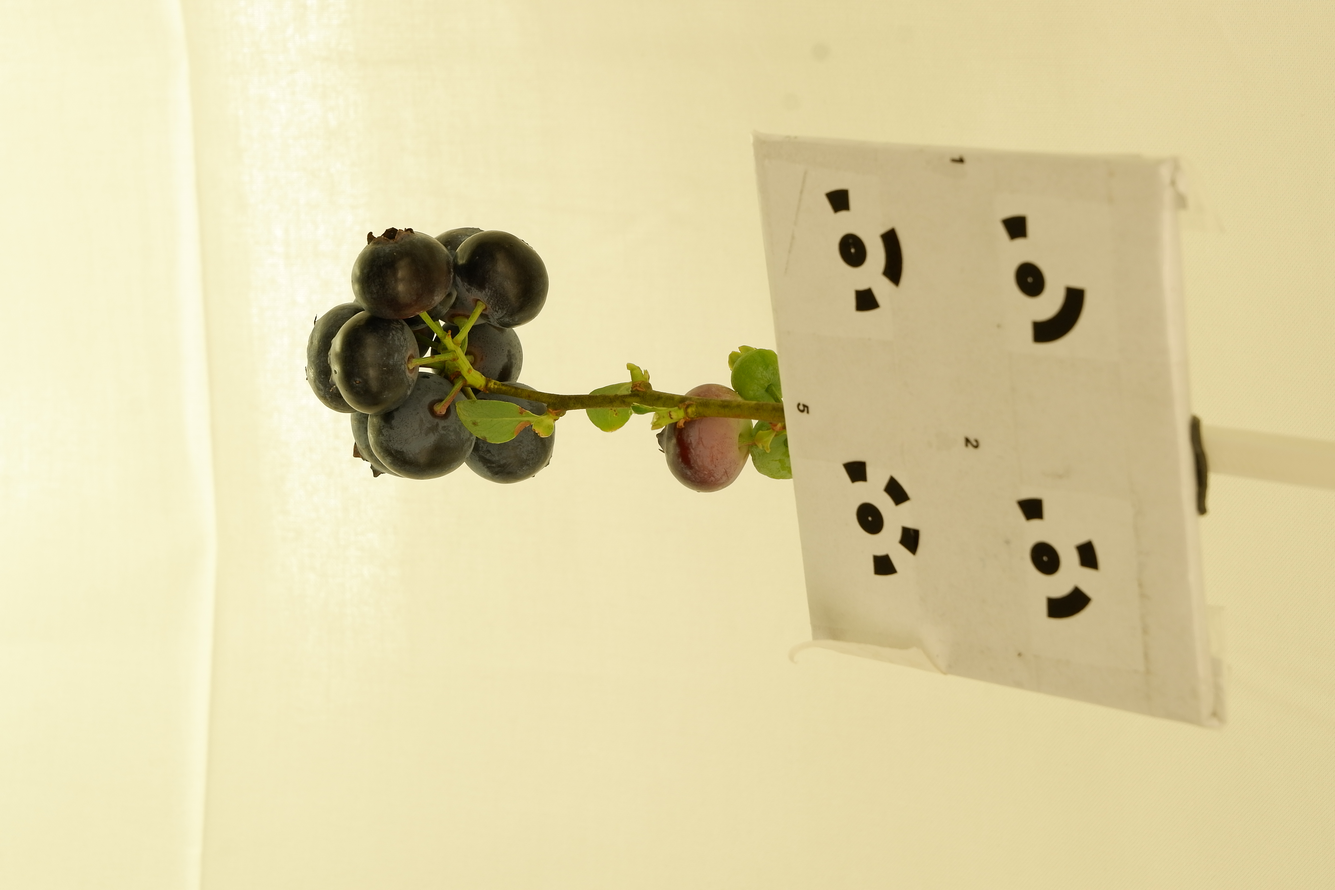Immature: (656, 383, 753, 493), (727, 344, 783, 404), (750, 421, 792, 478)
Mature: (367, 371, 475, 480), (453, 230, 549, 329), (328, 311, 420, 414), (466, 381, 556, 484), (351, 230, 453, 319), (431, 322, 522, 399), (306, 301, 366, 412), (350, 413, 404, 478), (402, 280, 457, 330), (433, 226, 484, 260), (440, 293, 487, 327), (411, 326, 435, 357)
